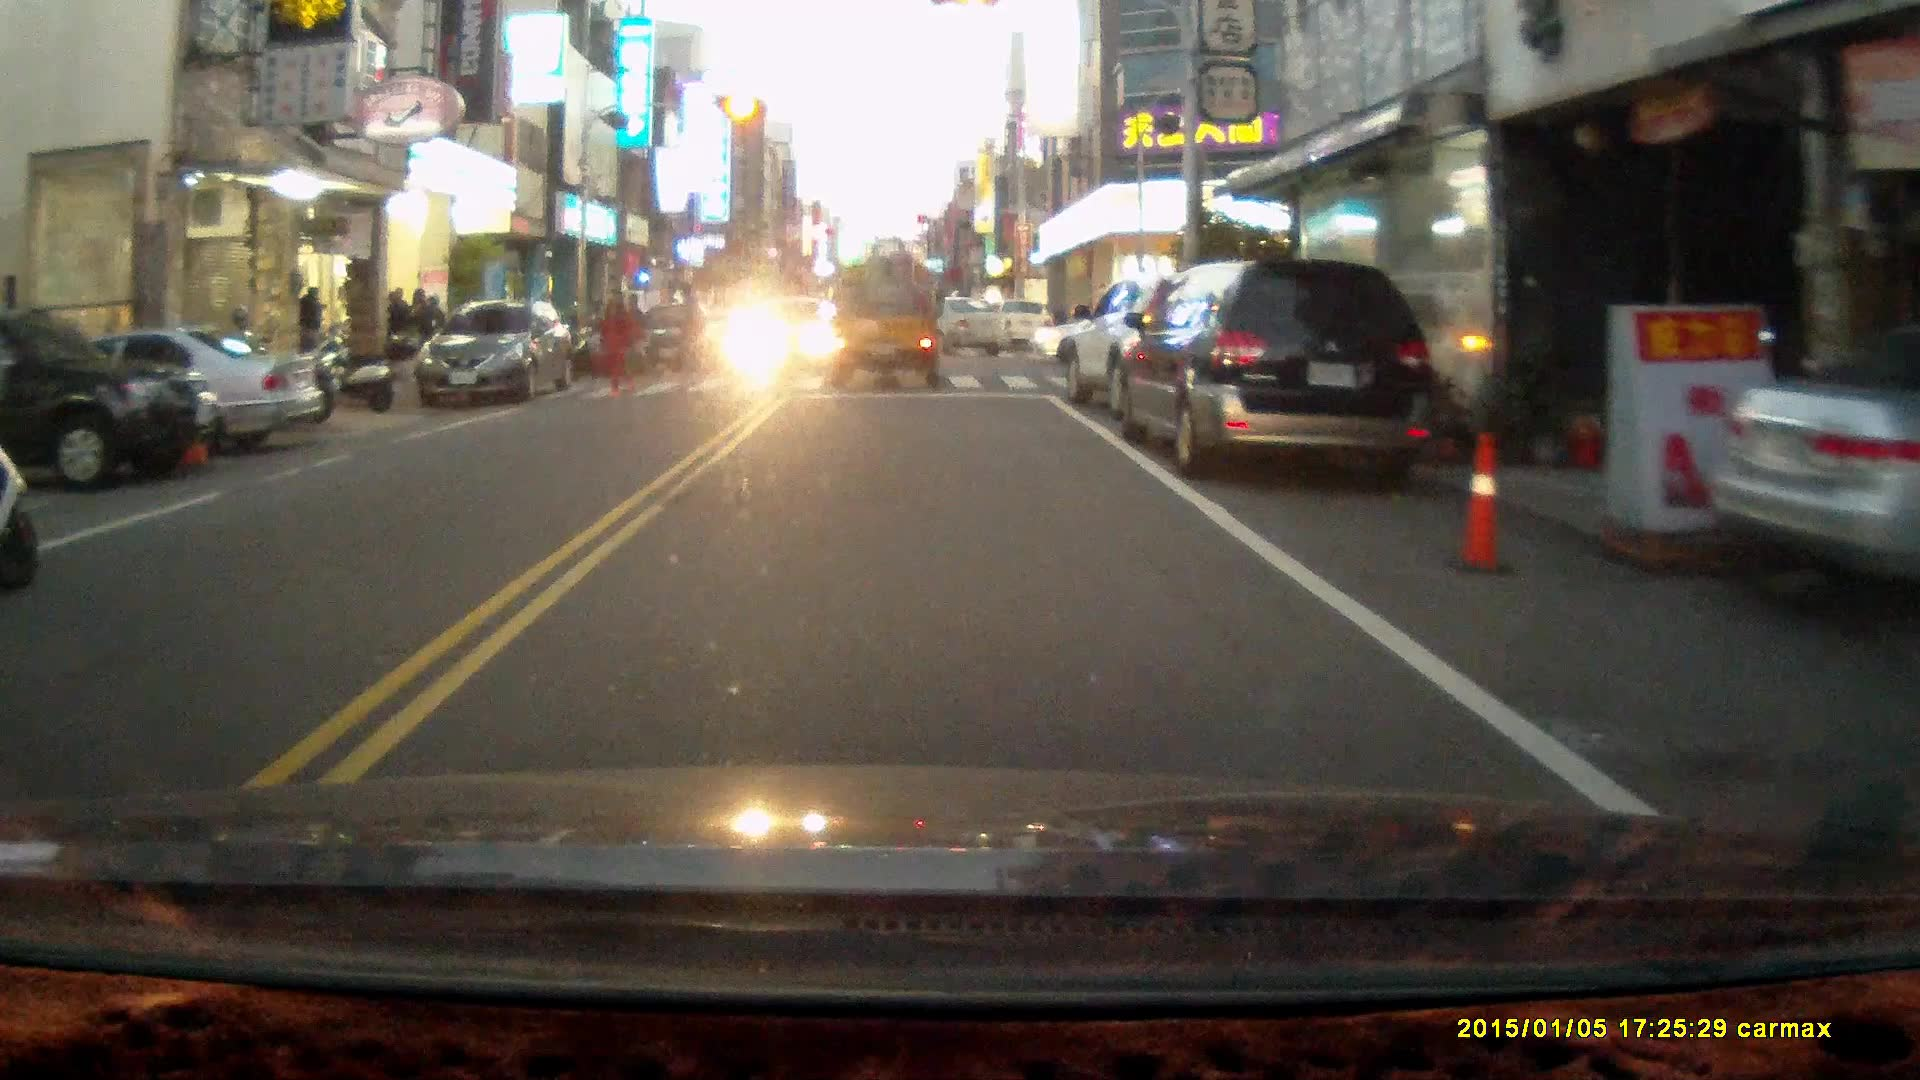pedestrian: (595, 284, 635, 392), (295, 281, 327, 368)
vehicle: (1107, 258, 1438, 477), (1711, 347, 1920, 566), (1, 300, 223, 496), (10, 327, 323, 457), (1061, 276, 1293, 428), (820, 236, 951, 390), (420, 302, 579, 407), (889, 298, 1016, 360), (630, 304, 725, 372)
